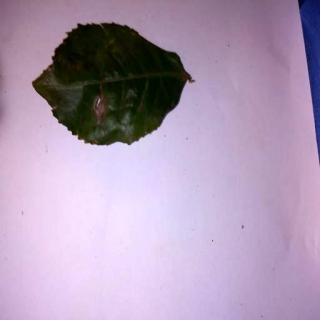Anthracnose: (34, 23, 194, 147)
